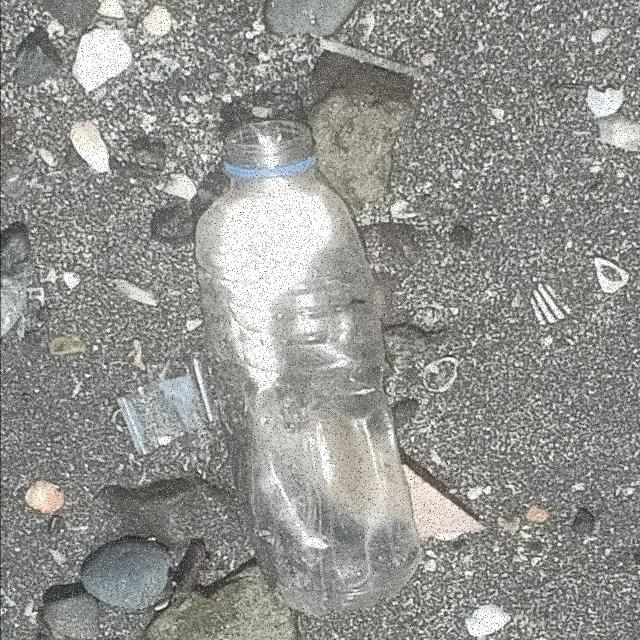plastic_waste: (192, 121, 422, 618)
